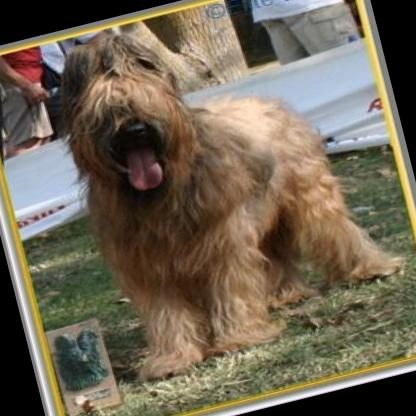briard: (37, 0, 409, 378)
